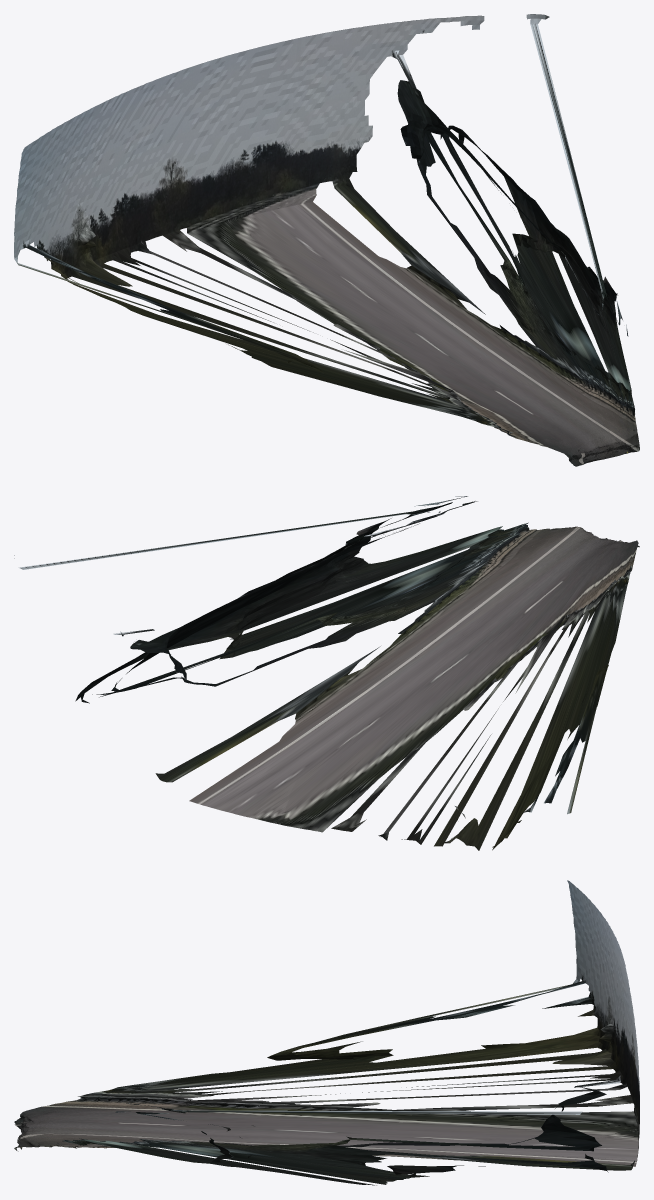
3 renders of one model, top to bottom at view 1: azimuth 30°, elevation 25°; view 2: azimuth 150°, elevation 25°; view 3: azimuth 270°, elevation 25°, orthographic. The views are drawn at different scales.
Visible parts, largest first — view 1: defaultobject; view 2: defaultobject; view 3: defaultobject.
Boxes of the visible parts, box(x1,y1,x2,y2) form: defaultobject: box(14, 14, 639, 466); defaultobject: box(14, 496, 639, 850); defaultobject: box(14, 880, 639, 1185).
Bounding box in the file's own units: 39.2 × 12.37 × 44.51.
1 material, 1 textured.
